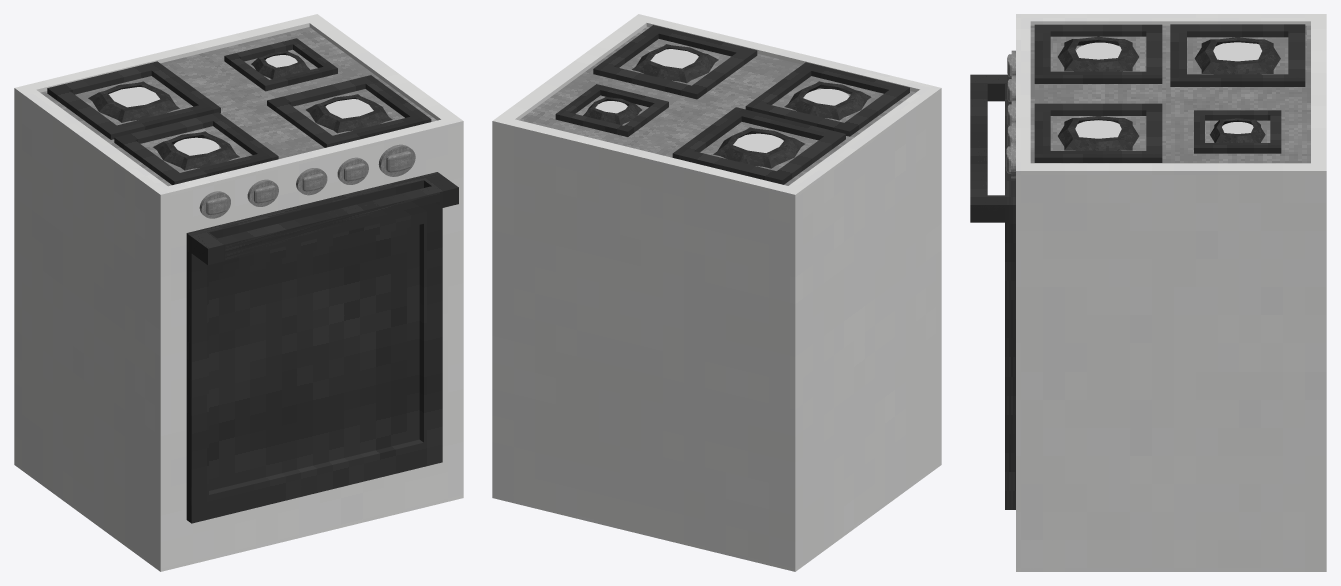
The model's file is kuchenka.fbx.
3 views of the same model, side by side, from view 1: azimuth 30°, elevation 25°; view 2: azimuth 150°, elevation 25°; view 3: azimuth 270°, elevation 25° (orthographic). The views are drawn at different scales.
Visible parts, largest first — view 1: Cube.054, Cube.055, Grid.004, Grid.003, Grid.010, Grid.007, Grid.005, Grid.002, Grid.009, Cylinder.060, Grid.006, Cylinder.053 (+6 smaller); view 2: Cube.054, Grid.004, Grid.010, Grid.003, Grid.007, Grid.005, Grid.002, Grid.009, Grid.006, Cylinder.053, Cylinder.055, Cylinder.052; view 3: Cube.054, Cube.055, Grid.004, Grid.003, Grid.010, Grid.007, Grid.005, Grid.002, Grid.009, Grid.006, Cylinder.053, Cylinder.055 (+1 smaller).
Boxes of the visible parts, left/top/right/bottom form: Cube.054: left=14, top=14, right=463, bottom=571; Cube.055: left=186, top=172, right=458, bottom=523; Grid.004: left=47, top=61, right=220, bottom=139; Grid.003: left=114, top=112, right=278, bottom=184; Grid.010: left=267, top=75, right=431, bottom=147; Grid.007: left=224, top=38, right=337, bottom=91; Grid.005: left=88, top=81, right=179, bottom=122; Grid.002: left=153, top=131, right=239, bottom=170; Grid.009: left=306, top=94, right=392, bottom=133; Cylinder.060: left=378, top=144, right=415, bottom=176; Grid.006: left=251, top=51, right=309, bottom=79; Cylinder.053: left=108, top=87, right=159, bottom=107; Cube.054: left=492, top=14, right=941, bottom=571; Grid.004: left=672, top=107, right=845, bottom=184; Grid.010: left=593, top=25, right=757, bottom=99; Grid.003: left=745, top=62, right=909, bottom=136; Grid.007: left=555, top=84, right=668, bottom=136; Grid.005: left=713, top=127, right=804, bottom=168; Grid.002: left=784, top=81, right=871, bottom=120; Grid.009: left=632, top=44, right=718, bottom=83; Grid.006: left=583, top=96, right=641, bottom=125; Cylinder.053: left=733, top=133, right=783, bottom=152; Cylinder.055: left=650, top=49, right=698, bottom=68; Cylinder.052: left=803, top=89, right=849, bottom=105; Cube.054: left=1016, top=14, right=1326, bottom=571; Cube.055: left=970, top=74, right=1015, bottom=509; Grid.004: left=1170, top=24, right=1305, bottom=86; Grid.003: left=1034, top=24, right=1162, bottom=83; Grid.010: left=1034, top=103, right=1162, bottom=162; Grid.007: left=1194, top=110, right=1281, bottom=153; Grid.005: left=1194, top=37, right=1280, bottom=74; Grid.002: left=1058, top=36, right=1138, bottom=71; Grid.009: left=1058, top=116, right=1139, bottom=150; Grid.006: left=1210, top=118, right=1265, bottom=142; Cylinder.053: left=1213, top=42, right=1261, bottom=61; Cylinder.055: left=1075, top=120, right=1121, bottom=138.
Bounding box in the file's own units: 78.07 × 93.65 × 74.78.
